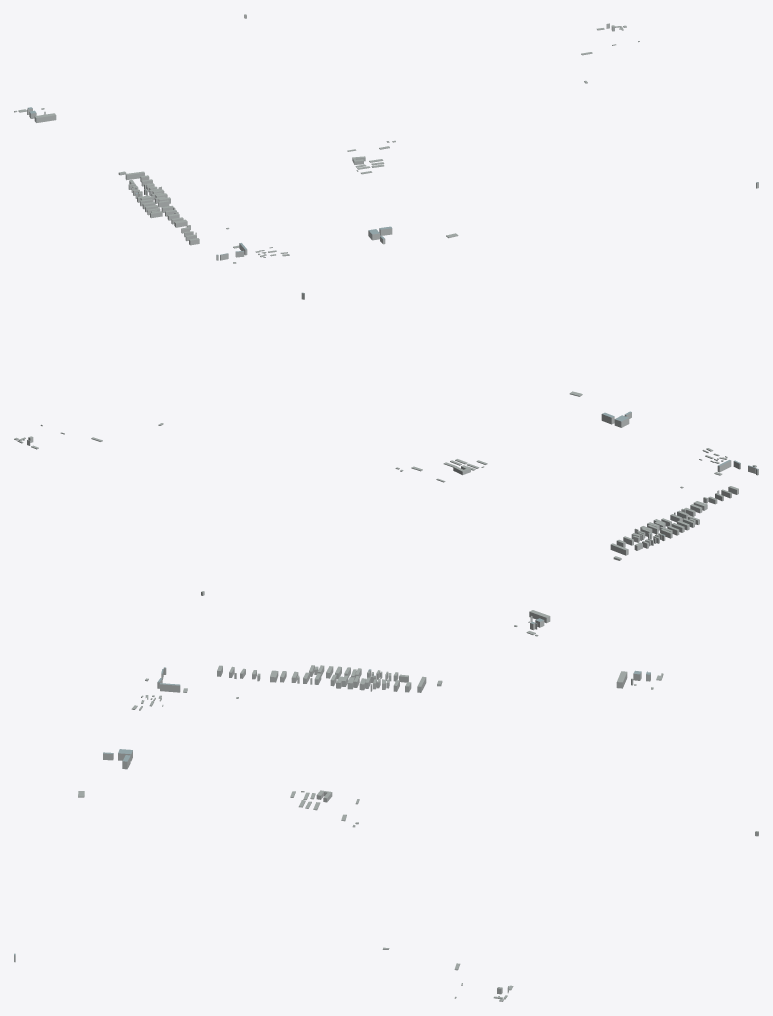
Rendered from far.glb.
3 views of the same model, one above another, from view 1: azimuth 30°, elevation 25°; view 2: azimuth 150°, elevation 25°; view 3: azimuth 270°, elevation 25° (orthographic). The views are drawn at different scales.
Bounding box in the file's own units: 2055 × 22.3 × 1951.
